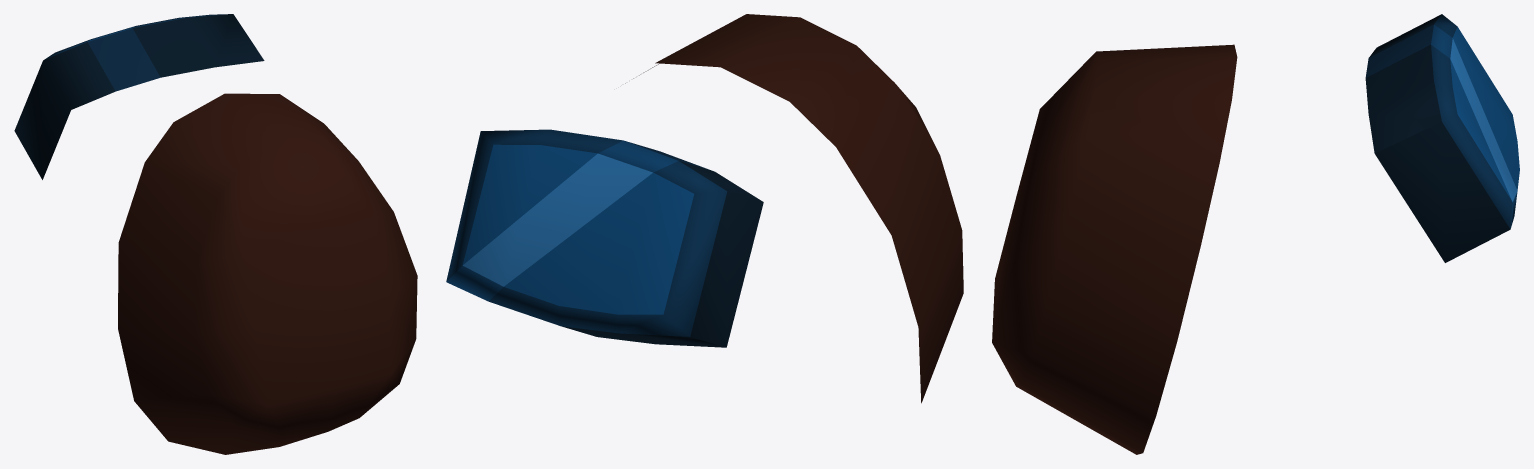
File: hat_amongEgg_07.glb
The picture shows the model from 3 angles, left to right: view 1: azimuth 30°, elevation 25°; view 2: azimuth 150°, elevation 25°; view 3: azimuth 270°, elevation 25°; orthographic projection. The views are drawn at different scales.
Visible parts, largest first — view 1: hat_amongEgg_07; view 2: hat_amongEgg_07; view 3: hat_amongEgg_07.
Boxes of the visible parts, x1,y1,x2,y2 form: hat_amongEgg_07: (14, 14, 417, 454); hat_amongEgg_07: (446, 14, 963, 403); hat_amongEgg_07: (992, 14, 1519, 454).
Bounding box in the file's own units: 0.3682 × 0.4331 × 0.5396.
